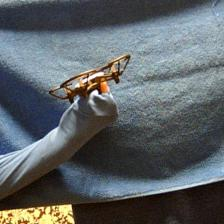drone: (47, 52, 133, 108)
